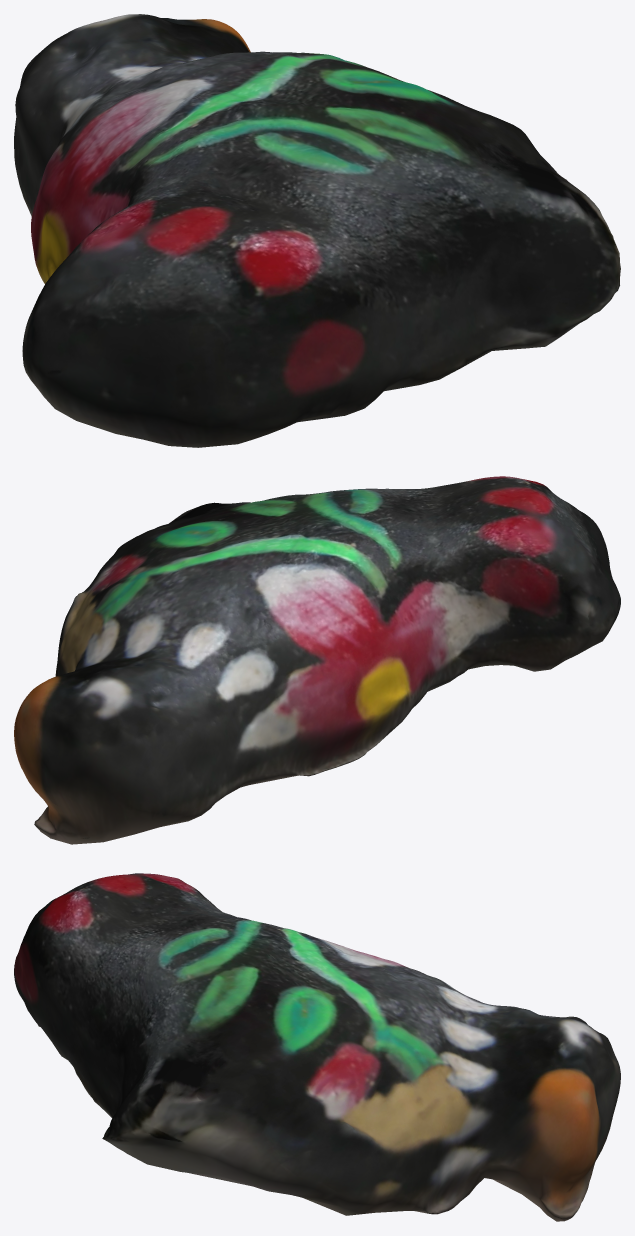
3 views of the same model, one above another, from view 1: azimuth 30°, elevation 25°; view 2: azimuth 150°, elevation 25°; view 3: azimuth 270°, elevation 25° (orthographic). The views are drawn at different scales.
Size of the model in its own units: 0.4468 by 0.2233 by 0.5425.
1 material, 1 textured.
